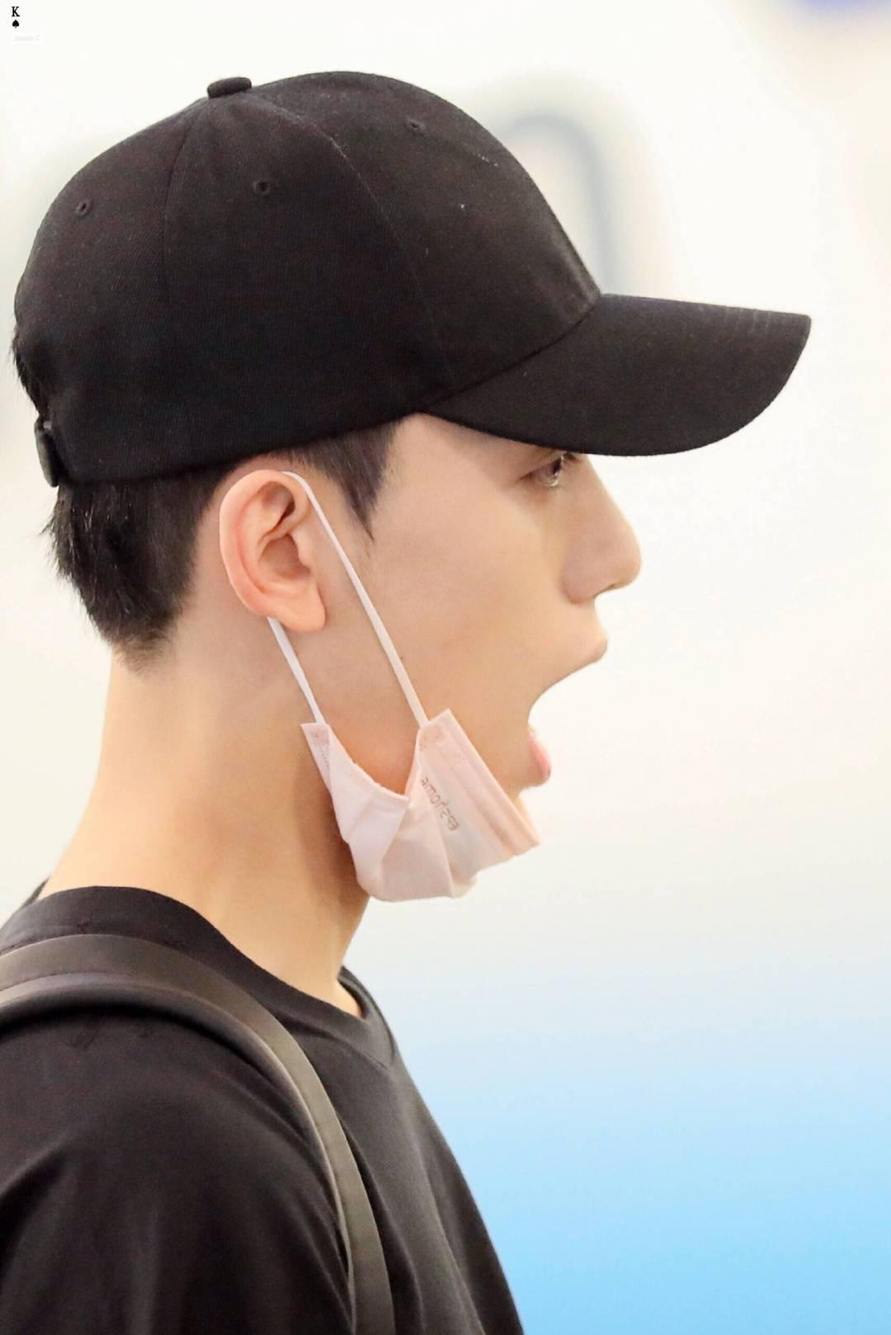WRONG: (357, 368, 651, 823)
